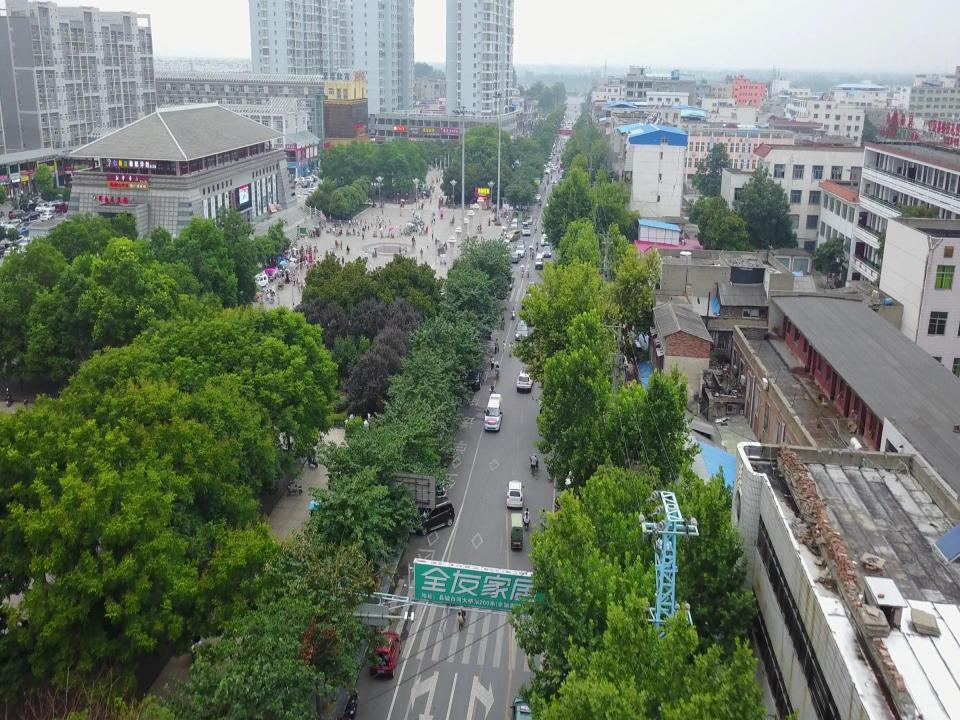car: (369, 631, 401, 679), (417, 496, 455, 535), (484, 394, 502, 431), (506, 480, 524, 509), (465, 368, 485, 390), (516, 369, 534, 393), (514, 318, 530, 341), (432, 477, 448, 498), (521, 294, 532, 311), (535, 254, 543, 270), (542, 246, 552, 258), (541, 233, 549, 246), (541, 222, 549, 234)
